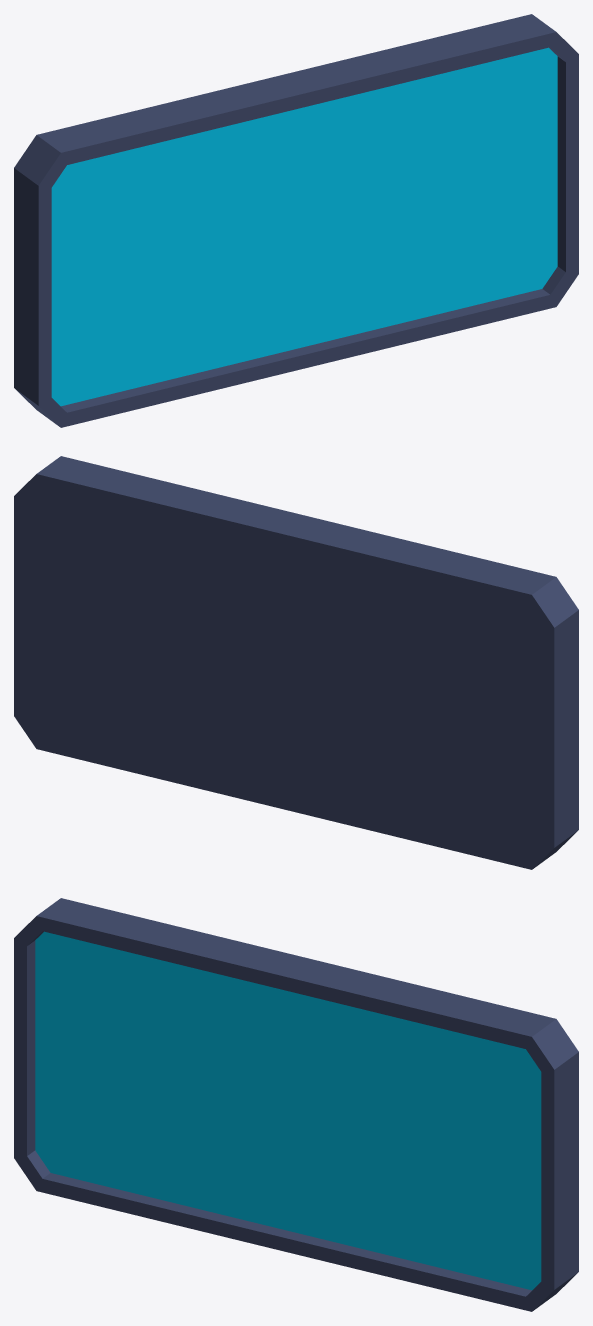
The model's file is Monitor.fbx.
3 views of the same model, one above another, from view 1: azimuth 30°, elevation 25°; view 2: azimuth 150°, elevation 25°; view 3: azimuth 330°, elevation 25° (orthographic).
Parts seen in each view (by area): view 1: Cube; view 2: Cube; view 3: Cube.
Boxes of the visible parts, bbox=[...] form: Cube: bbox=[14, 14, 578, 427]; Cube: bbox=[14, 456, 578, 869]; Cube: bbox=[14, 898, 578, 1311].
Bounding box in the file's own units: 411 × 200 × 32.4.
